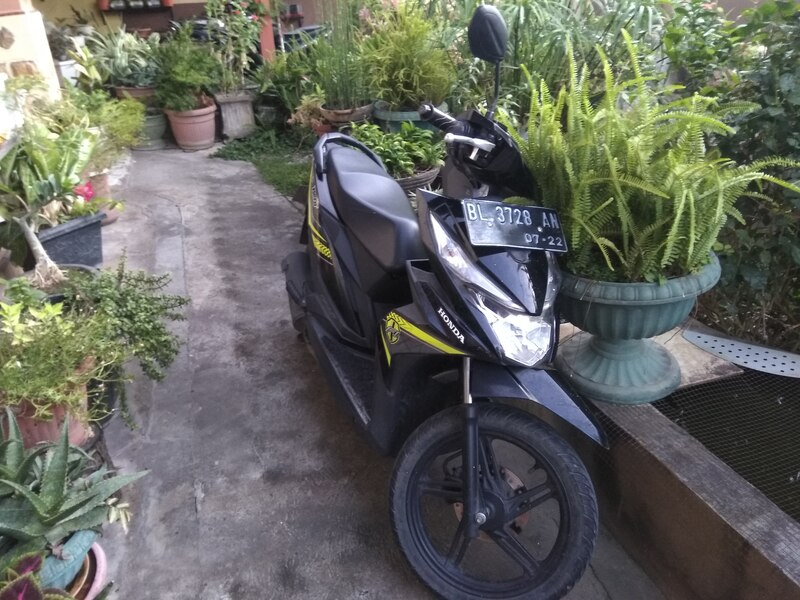motorcycle: (278, 2, 626, 600)
